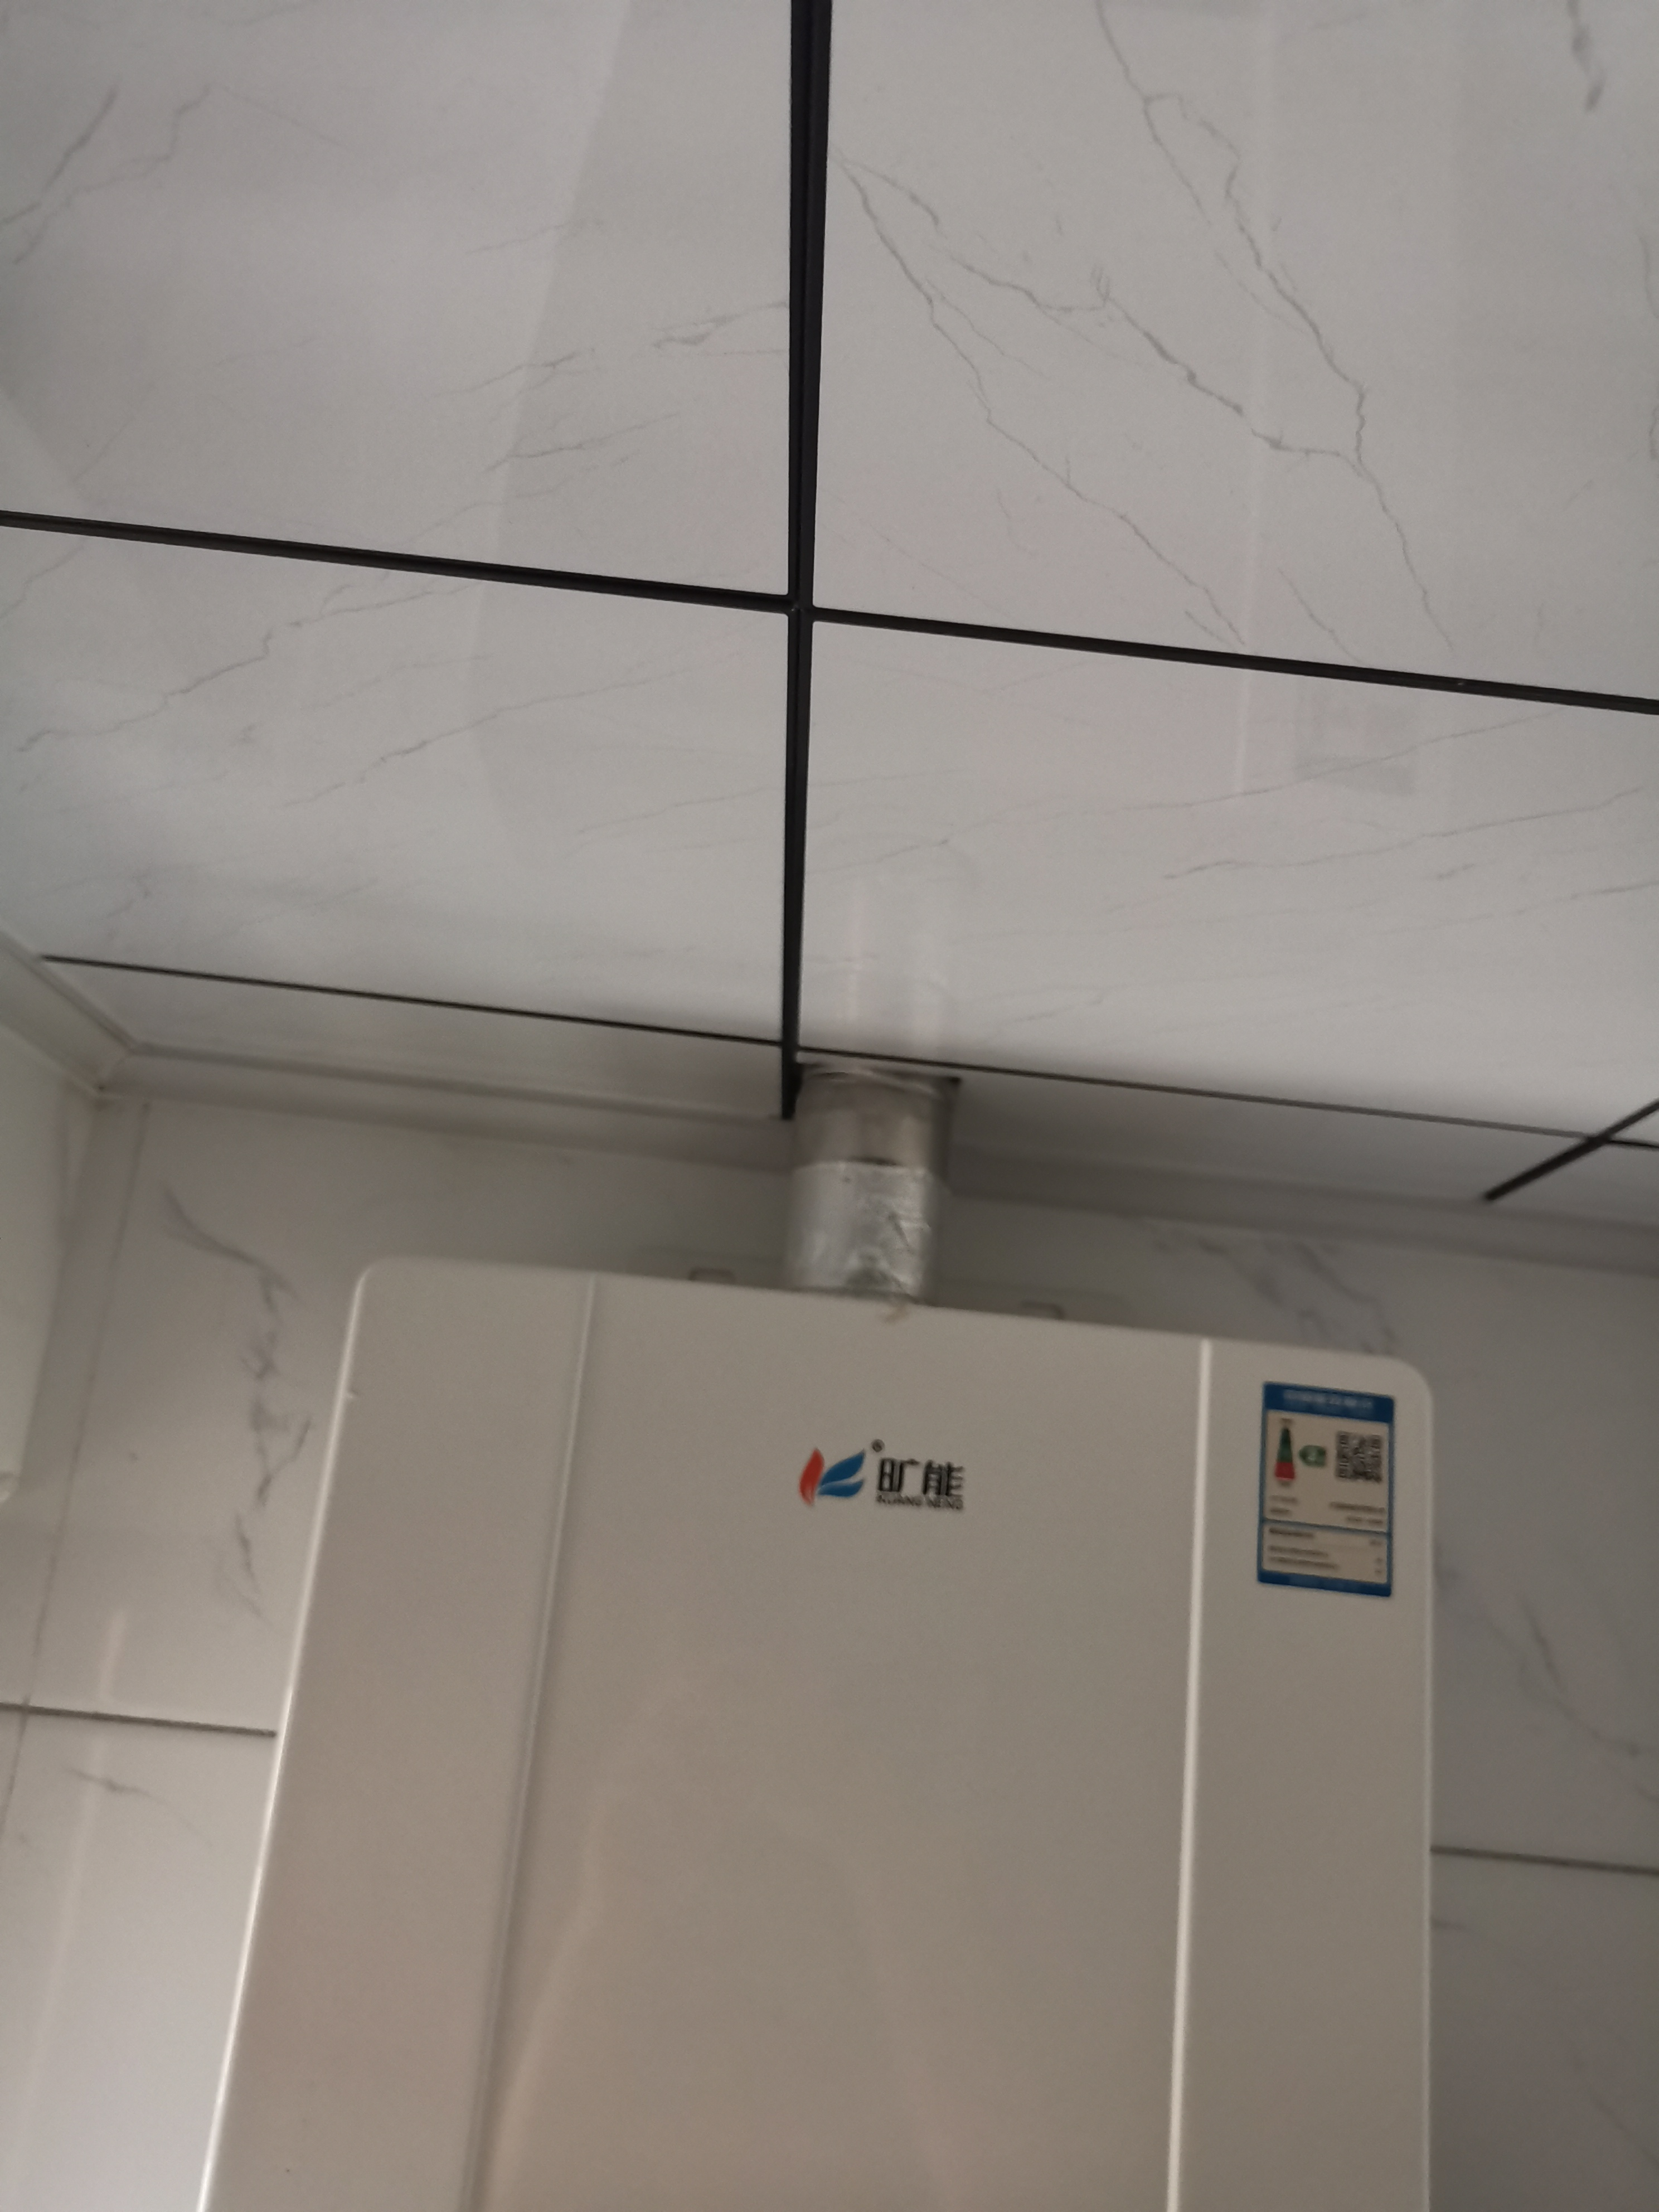loudou: (772, 1420, 1002, 1545)
